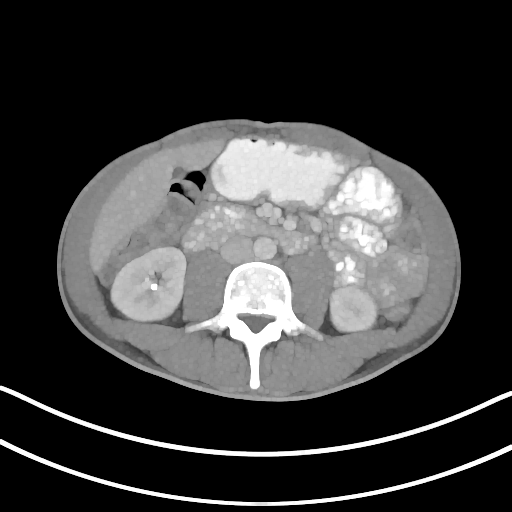Lesion: (146, 279, 160, 295)
